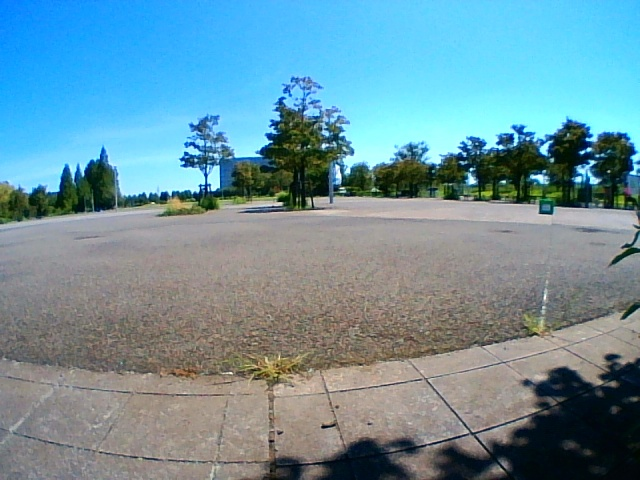green_box: (539, 198, 553, 213)
